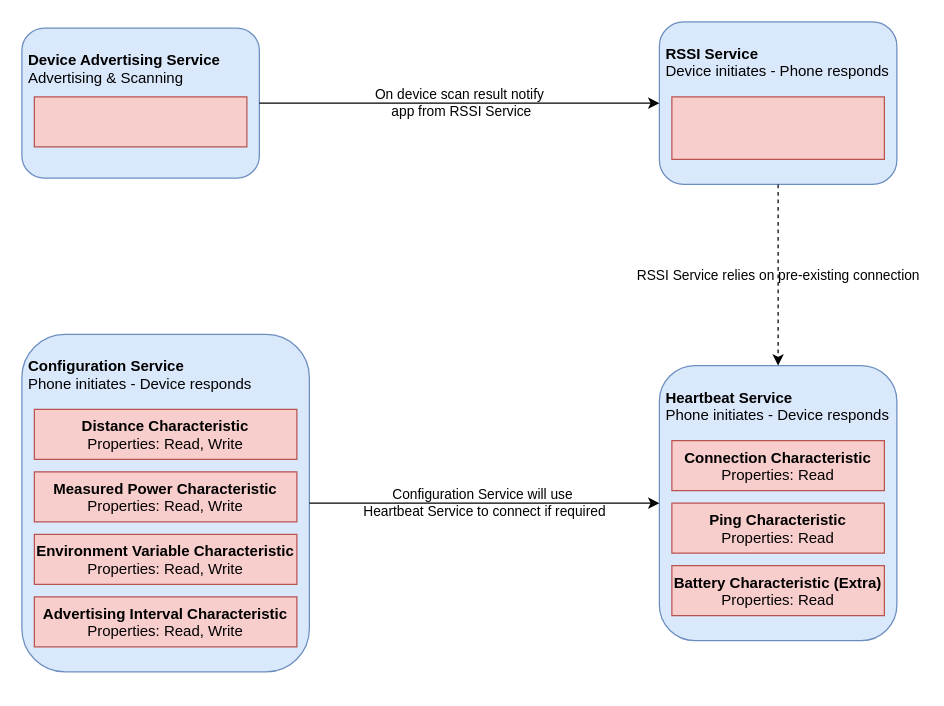
This 944x706 diagram has some shape labels left out. The centre of each missing label's shape, as x and y in pixels:
"Advertisement Characteristic Properties: None" belongs at [140,121].
"RSSI Characteristic Properties: Read, Notify, Indicate" belongs at [777,127].
